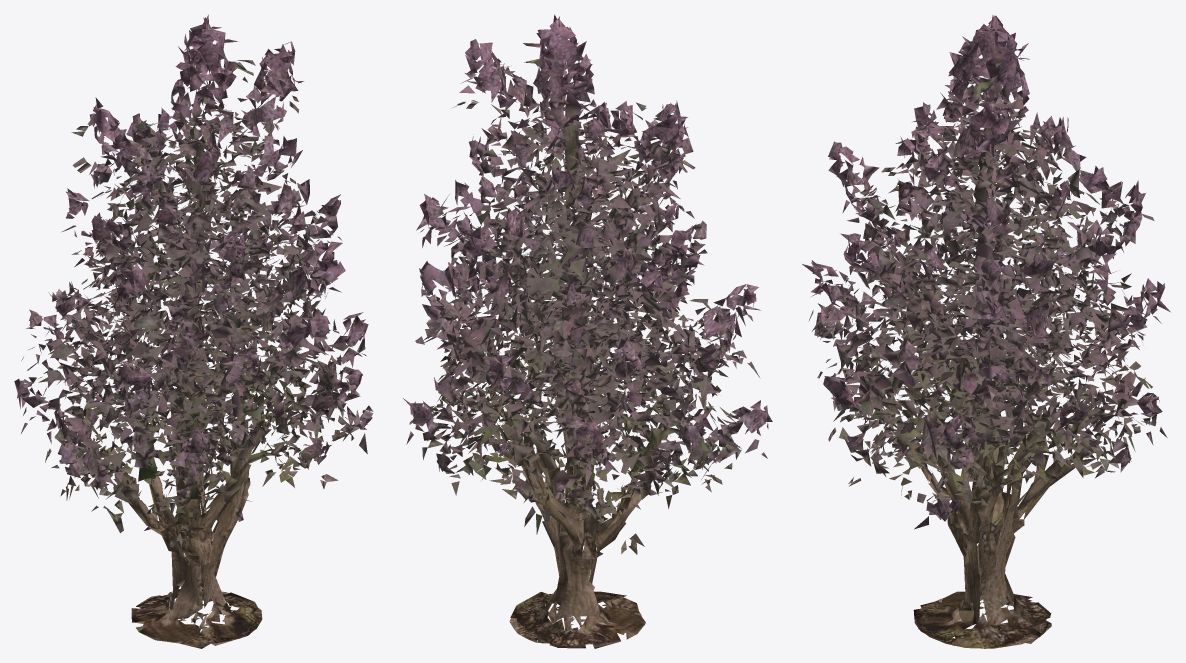
File: purple_bloom_tree.glb
3 renders of one model, left to right at view 1: azimuth 30°, elevation 25°; view 2: azimuth 150°, elevation 25°; view 3: azimuth 270°, elevation 25°, orthographic. The views are drawn at different scales.
Visible parts, largest first — view 1: Mesh_0; view 2: Mesh_0; view 3: Mesh_0.
Boxes of the visible parts, box(x1,y1,x2,y2) form: Mesh_0: box(14, 14, 373, 648); Mesh_0: box(403, 14, 772, 648); Mesh_0: box(802, 15, 1170, 648).
Size of the model in its own units: 2.38 by 4.2 by 2.27.
1 material, 1 textured.
